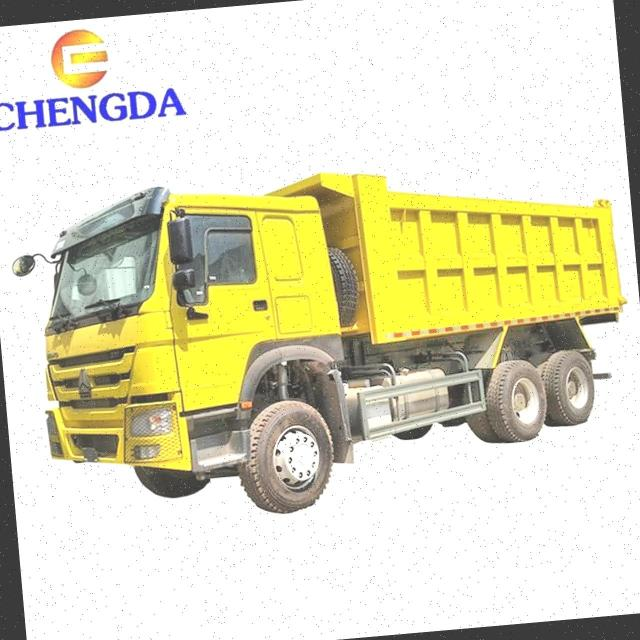dump_truck: (1, 130, 640, 540)
